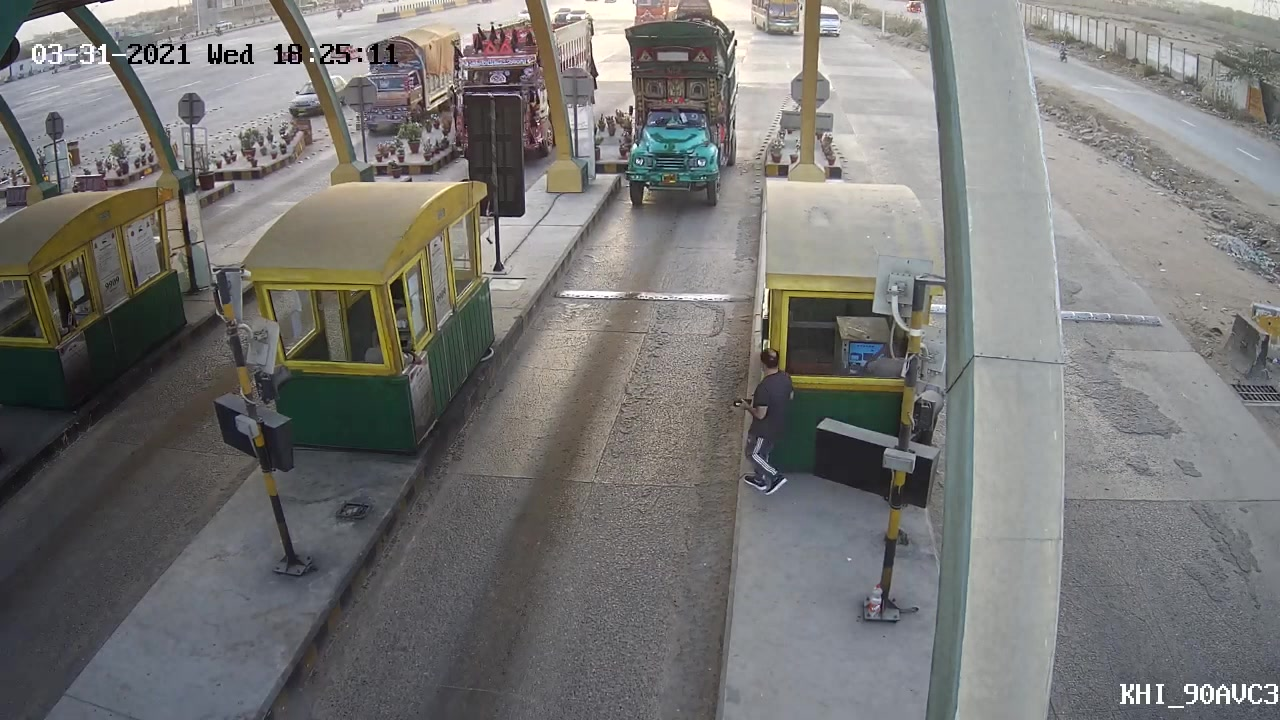F5: (619, 18, 743, 219)
